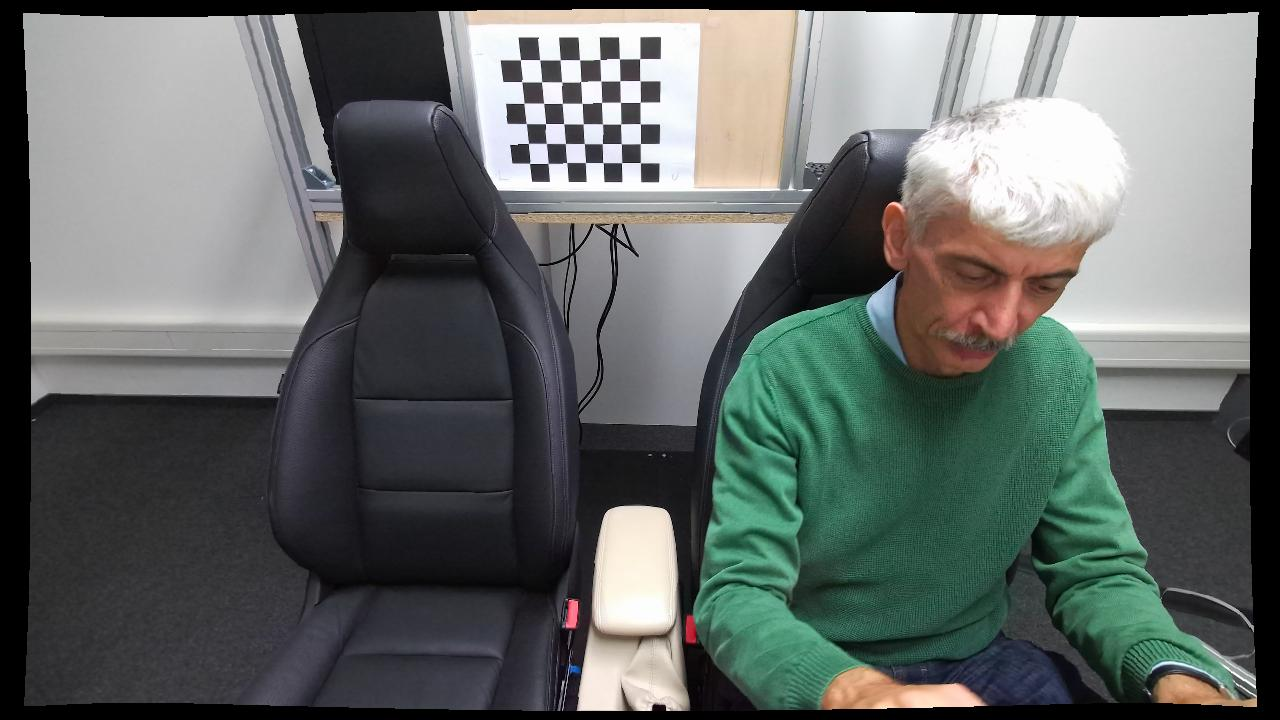SafeDriving: (687, 96, 1178, 713)
